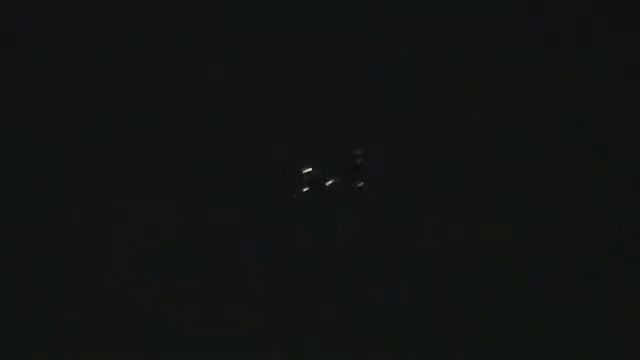Plane: (247, 145, 415, 203)
